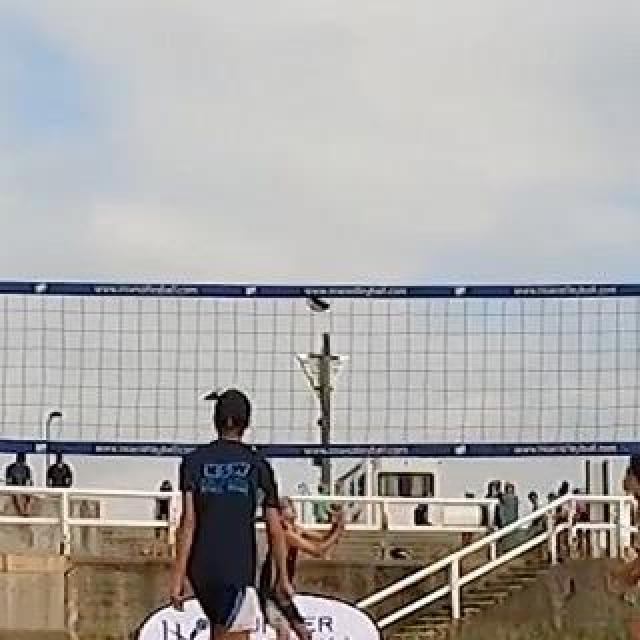volleyball: (304, 287, 332, 313)
